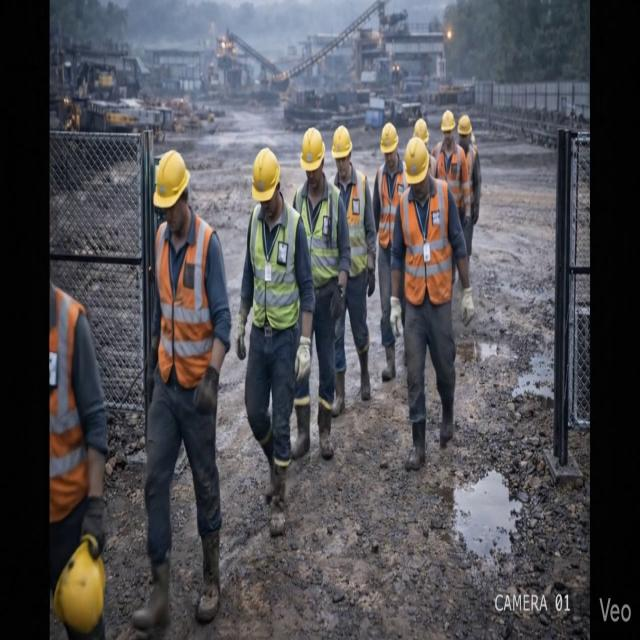Vest: (156, 215, 213, 388), (50, 288, 88, 522), (400, 178, 452, 306), (250, 203, 299, 330), (294, 181, 339, 288), (376, 161, 407, 248), (434, 143, 470, 211), (347, 170, 366, 277), (466, 144, 476, 203)
Worker: (132, 150, 230, 634), (236, 148, 314, 536), (391, 137, 474, 470), (49, 281, 107, 639), (294, 128, 350, 460), (332, 126, 375, 416), (373, 123, 406, 381), (433, 110, 470, 228), (458, 115, 481, 258), (414, 118, 435, 176)
helmet: (53, 536, 105, 634), (153, 150, 190, 209), (252, 148, 280, 201), (404, 136, 428, 184), (301, 128, 324, 171), (332, 126, 352, 159), (381, 123, 398, 153), (414, 118, 428, 143), (441, 110, 455, 132), (458, 115, 471, 135)
